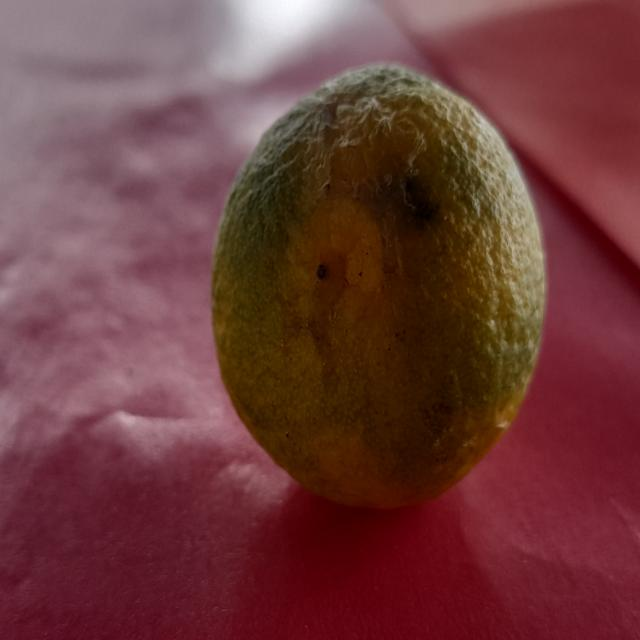greening: (200, 65, 548, 504)
